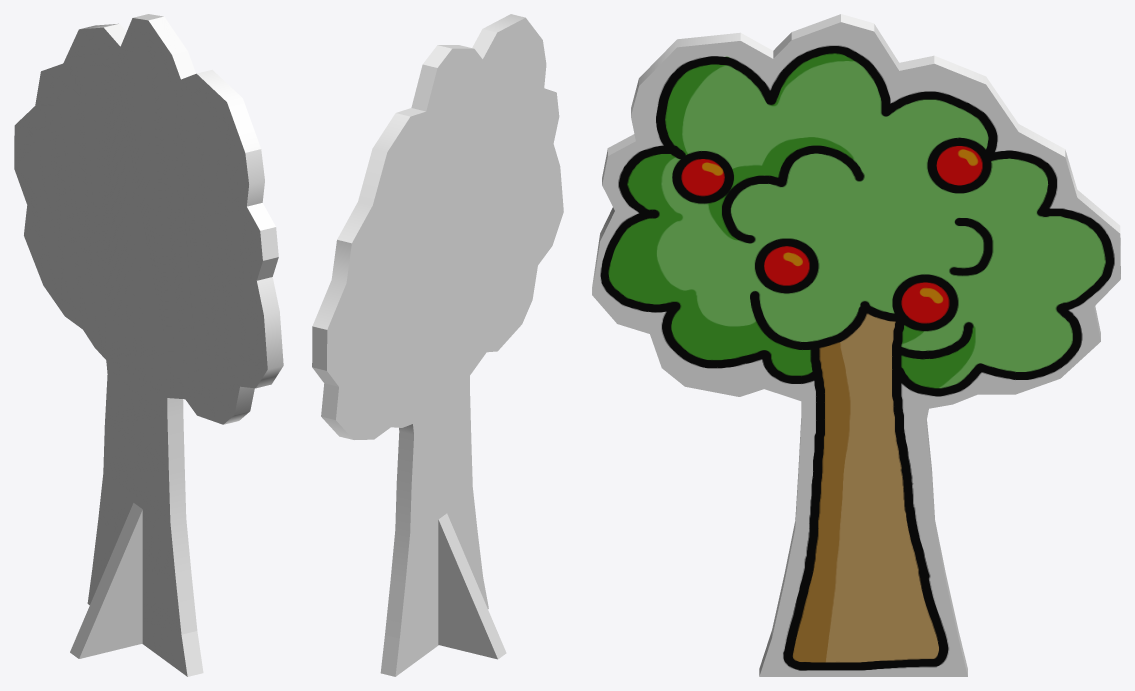
The model's file is tree 1 apples.fbx.
3 renders of one model, left to right at view 1: azimuth 30°, elevation 25°; view 2: azimuth 150°, elevation 25°; view 3: azimuth 270°, elevation 25°, orthographic. The views are drawn at different scales.
Visible parts, largest first — view 1: pCube18, pCube39; view 2: pCube18, pCube39; view 3: pCube18.
Part boxes in pixels (x1,y1,x2,y2): pCube18: (14, 14, 283, 676); pCube39: (70, 503, 142, 658); pCube18: (312, 14, 563, 676); pCube39: (438, 513, 506, 659); pCube18: (592, 14, 1120, 676).
Size of the model in its own units: 2.5 by 18.85 by 13.8.
